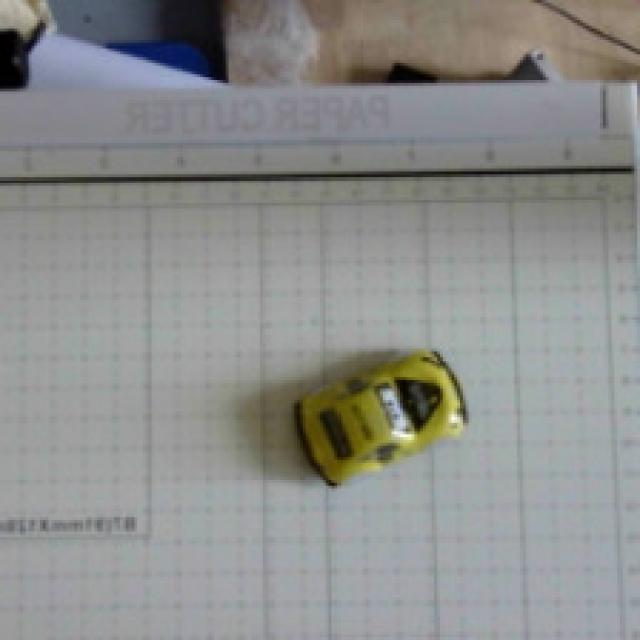Yellow Car: (268, 321, 506, 531)
